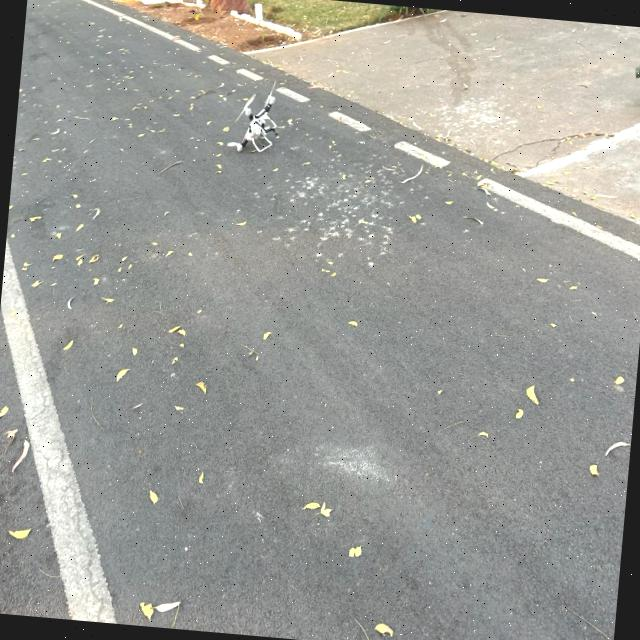drone: (208, 48, 314, 200)
